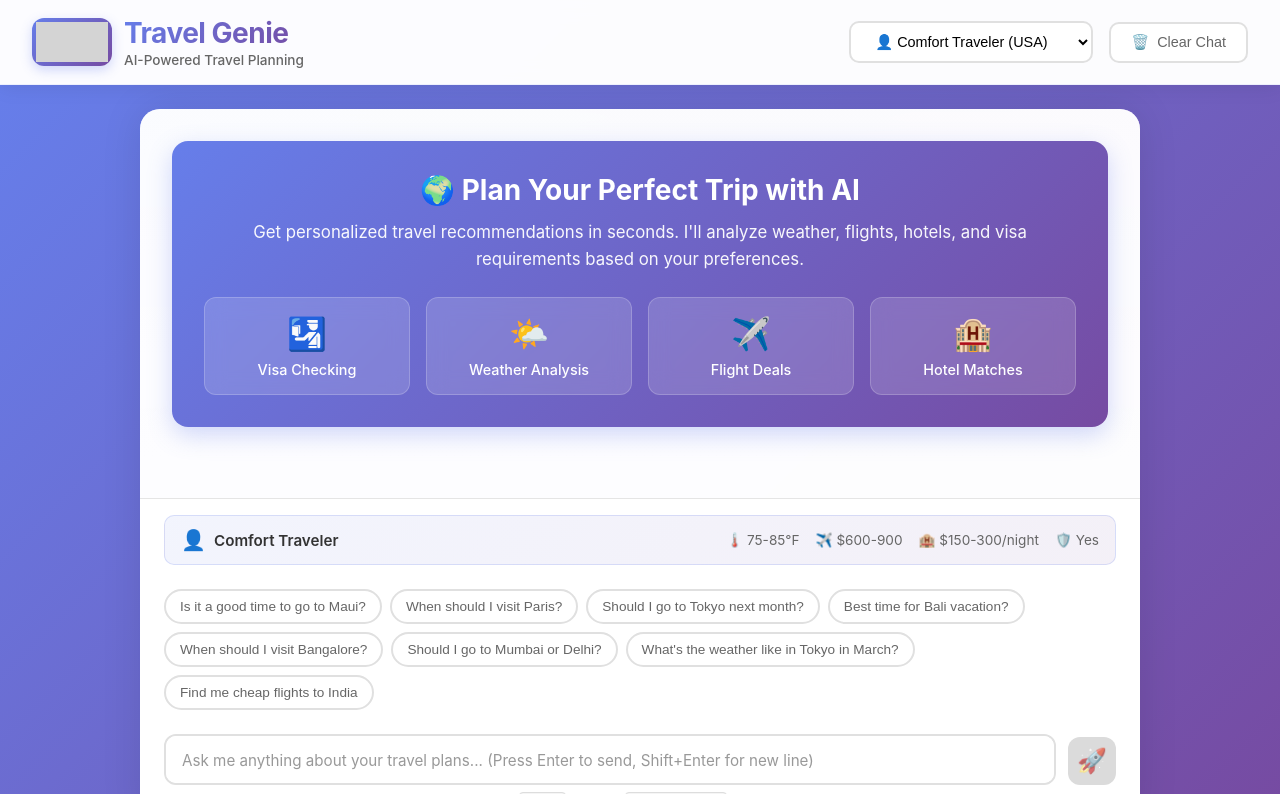
App Component › Message Handling › displays user message after sending
Replace the text in the text box with placeholder "Ask me anything about your travel plans" with "Test query". click: (610, 760)
box: [164,734,1056,785]
(page scrolled)
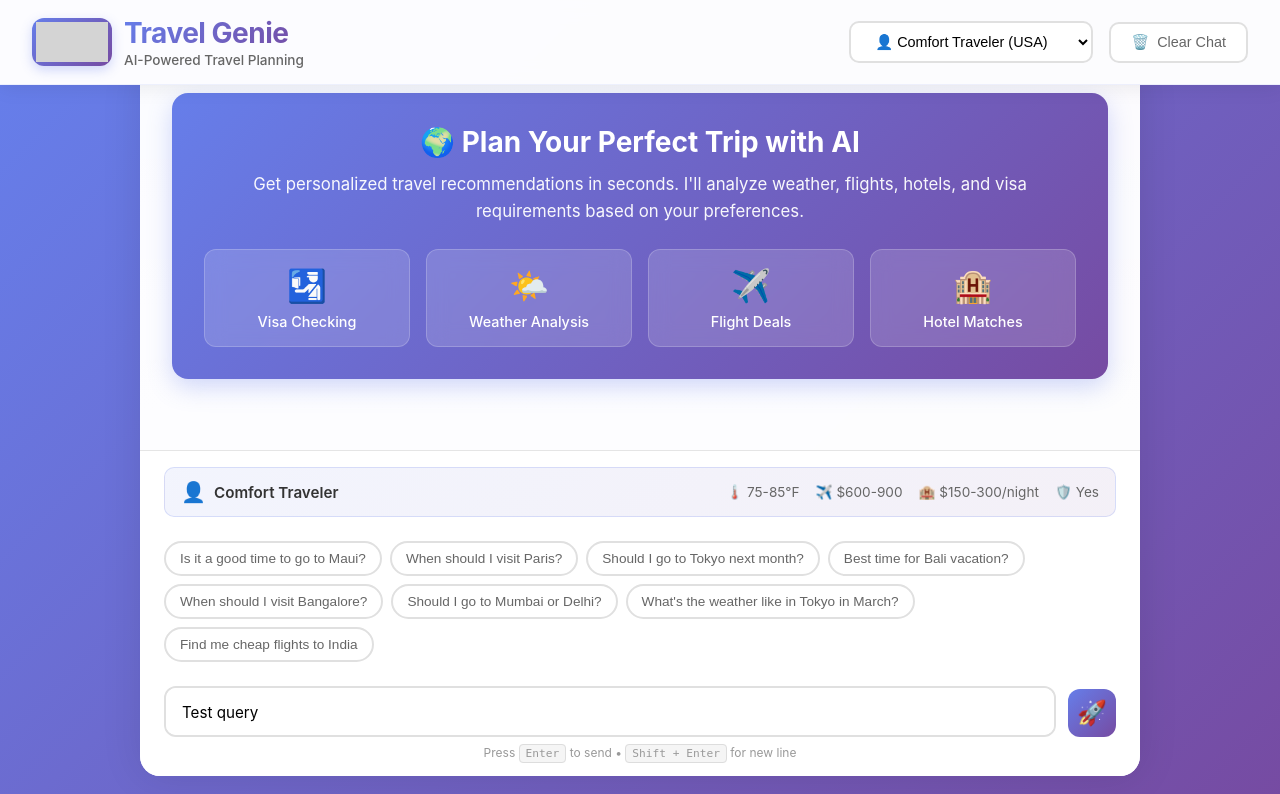
Submit the form with placeholder "Ask me anything about your travel plans", box [164,686,1116,760]
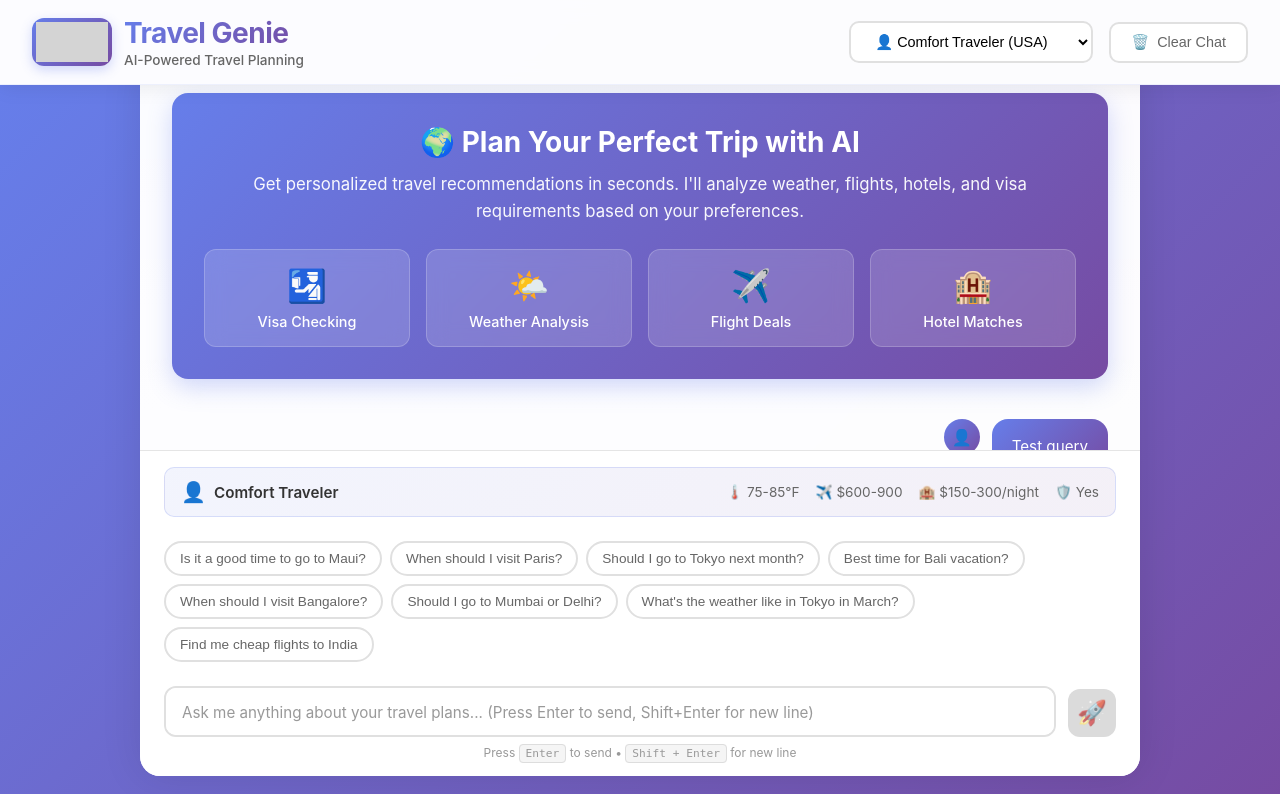
Expected: the text "Test query" is shown, [1012,437,1088,450]
